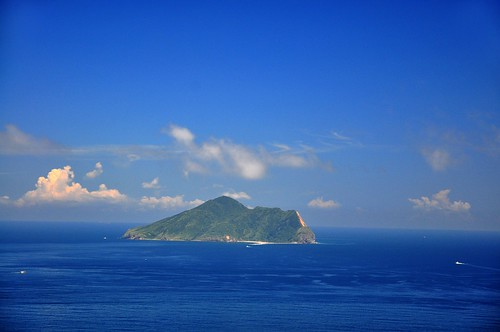turtleIsland: (125, 186, 320, 248)
